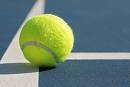tennis ball: (19, 13, 75, 69)
